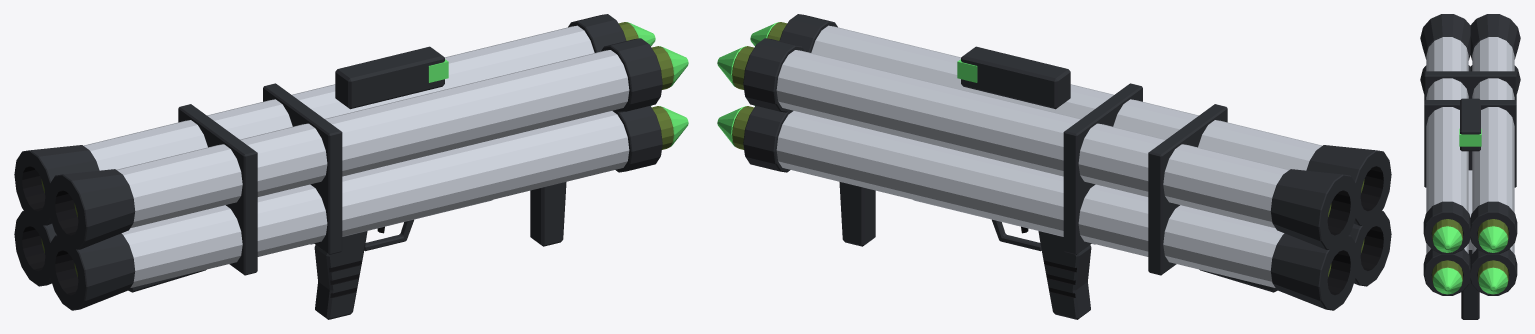
The model's file is seeker_rockets42.obj.
The picture shows the model from 3 angles, left to right: view 1: azimuth 30°, elevation 25°; view 2: azimuth 150°, elevation 25°; view 3: azimuth 270°, elevation 25°; orthographic projection. The views are drawn at different scales.
Visible parts, largest first — view 1: body; view 2: body; view 3: body.
Part boxes in pixels (x1,y1,x2,y2): body: (14, 14, 688, 319); body: (717, 14, 1391, 319); body: (1420, 14, 1520, 319).
Bounding box in the file's own units: 0.8081 × 0.2949 × 0.1639.
